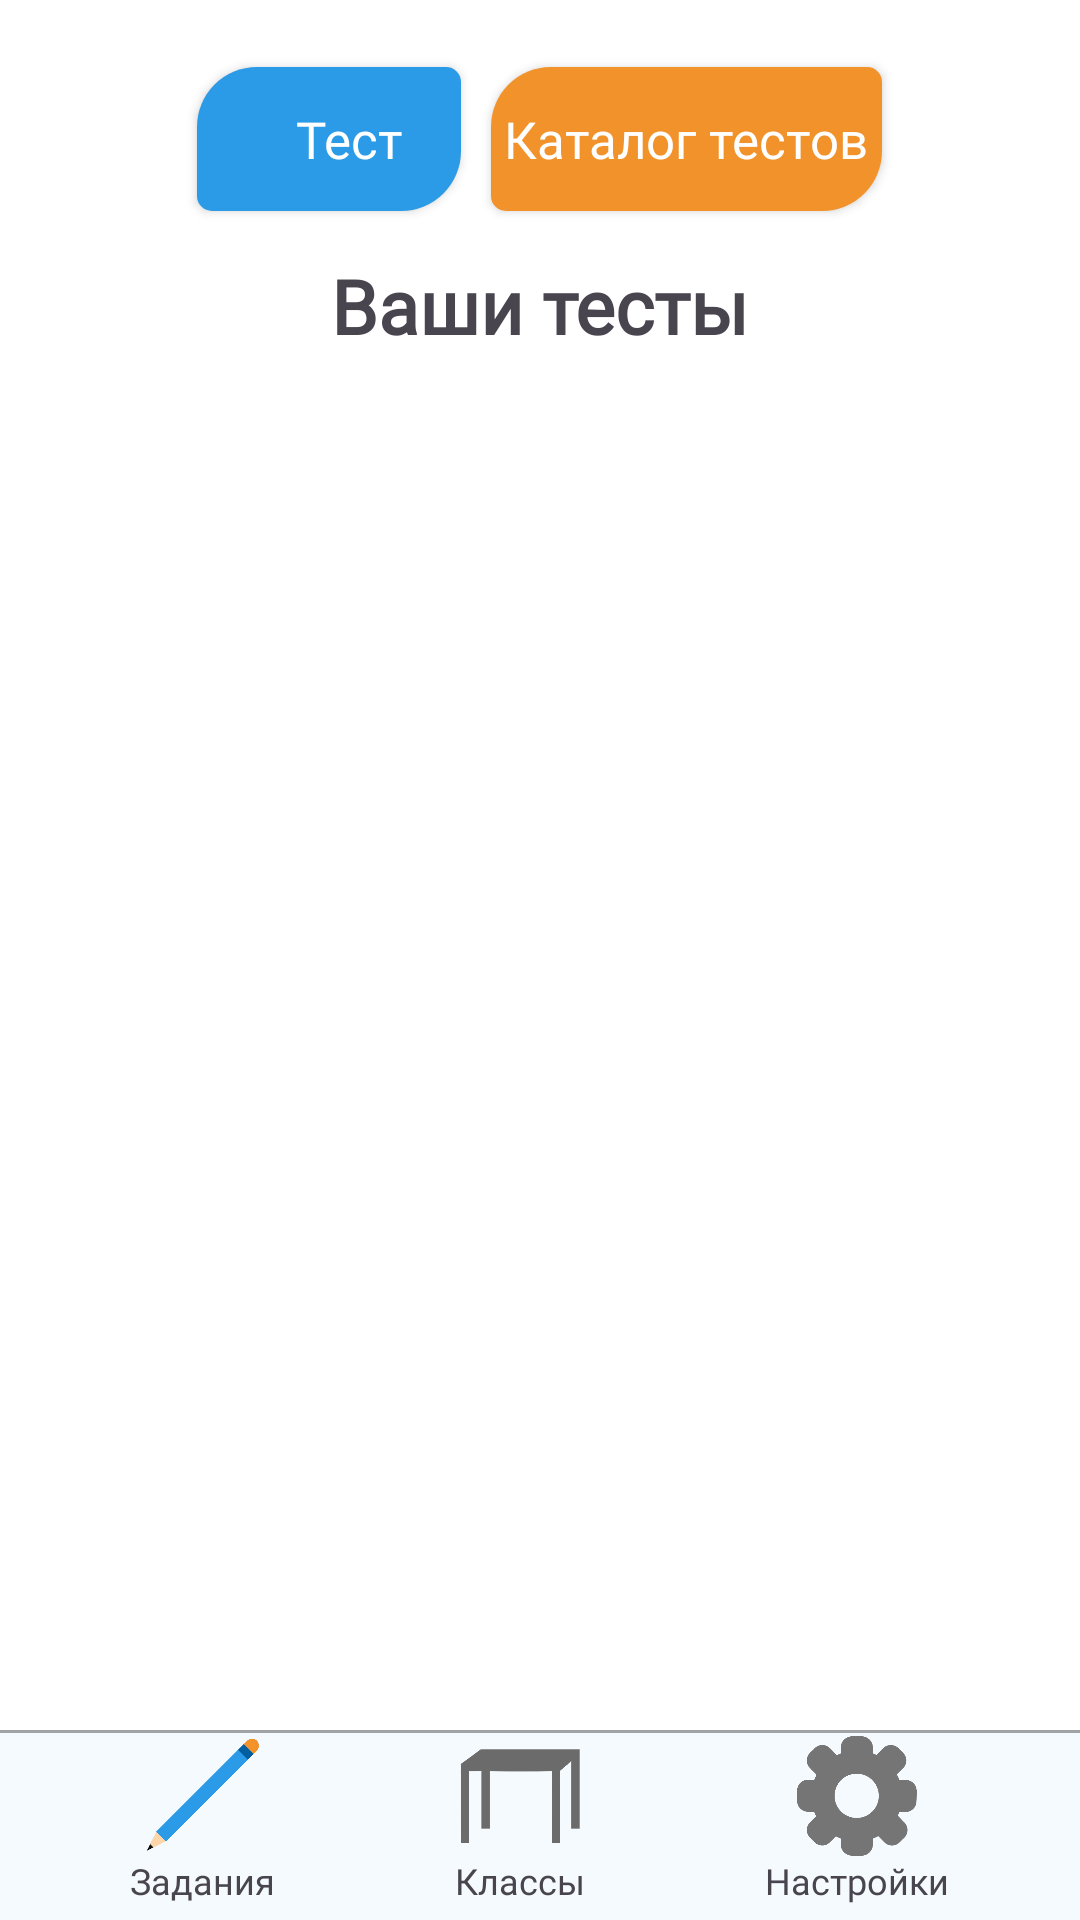

Icon click points for this 1080w x 1920h phone screenshot, format (x,y):
desk: (520,1796)
pencil: (203,1795)
